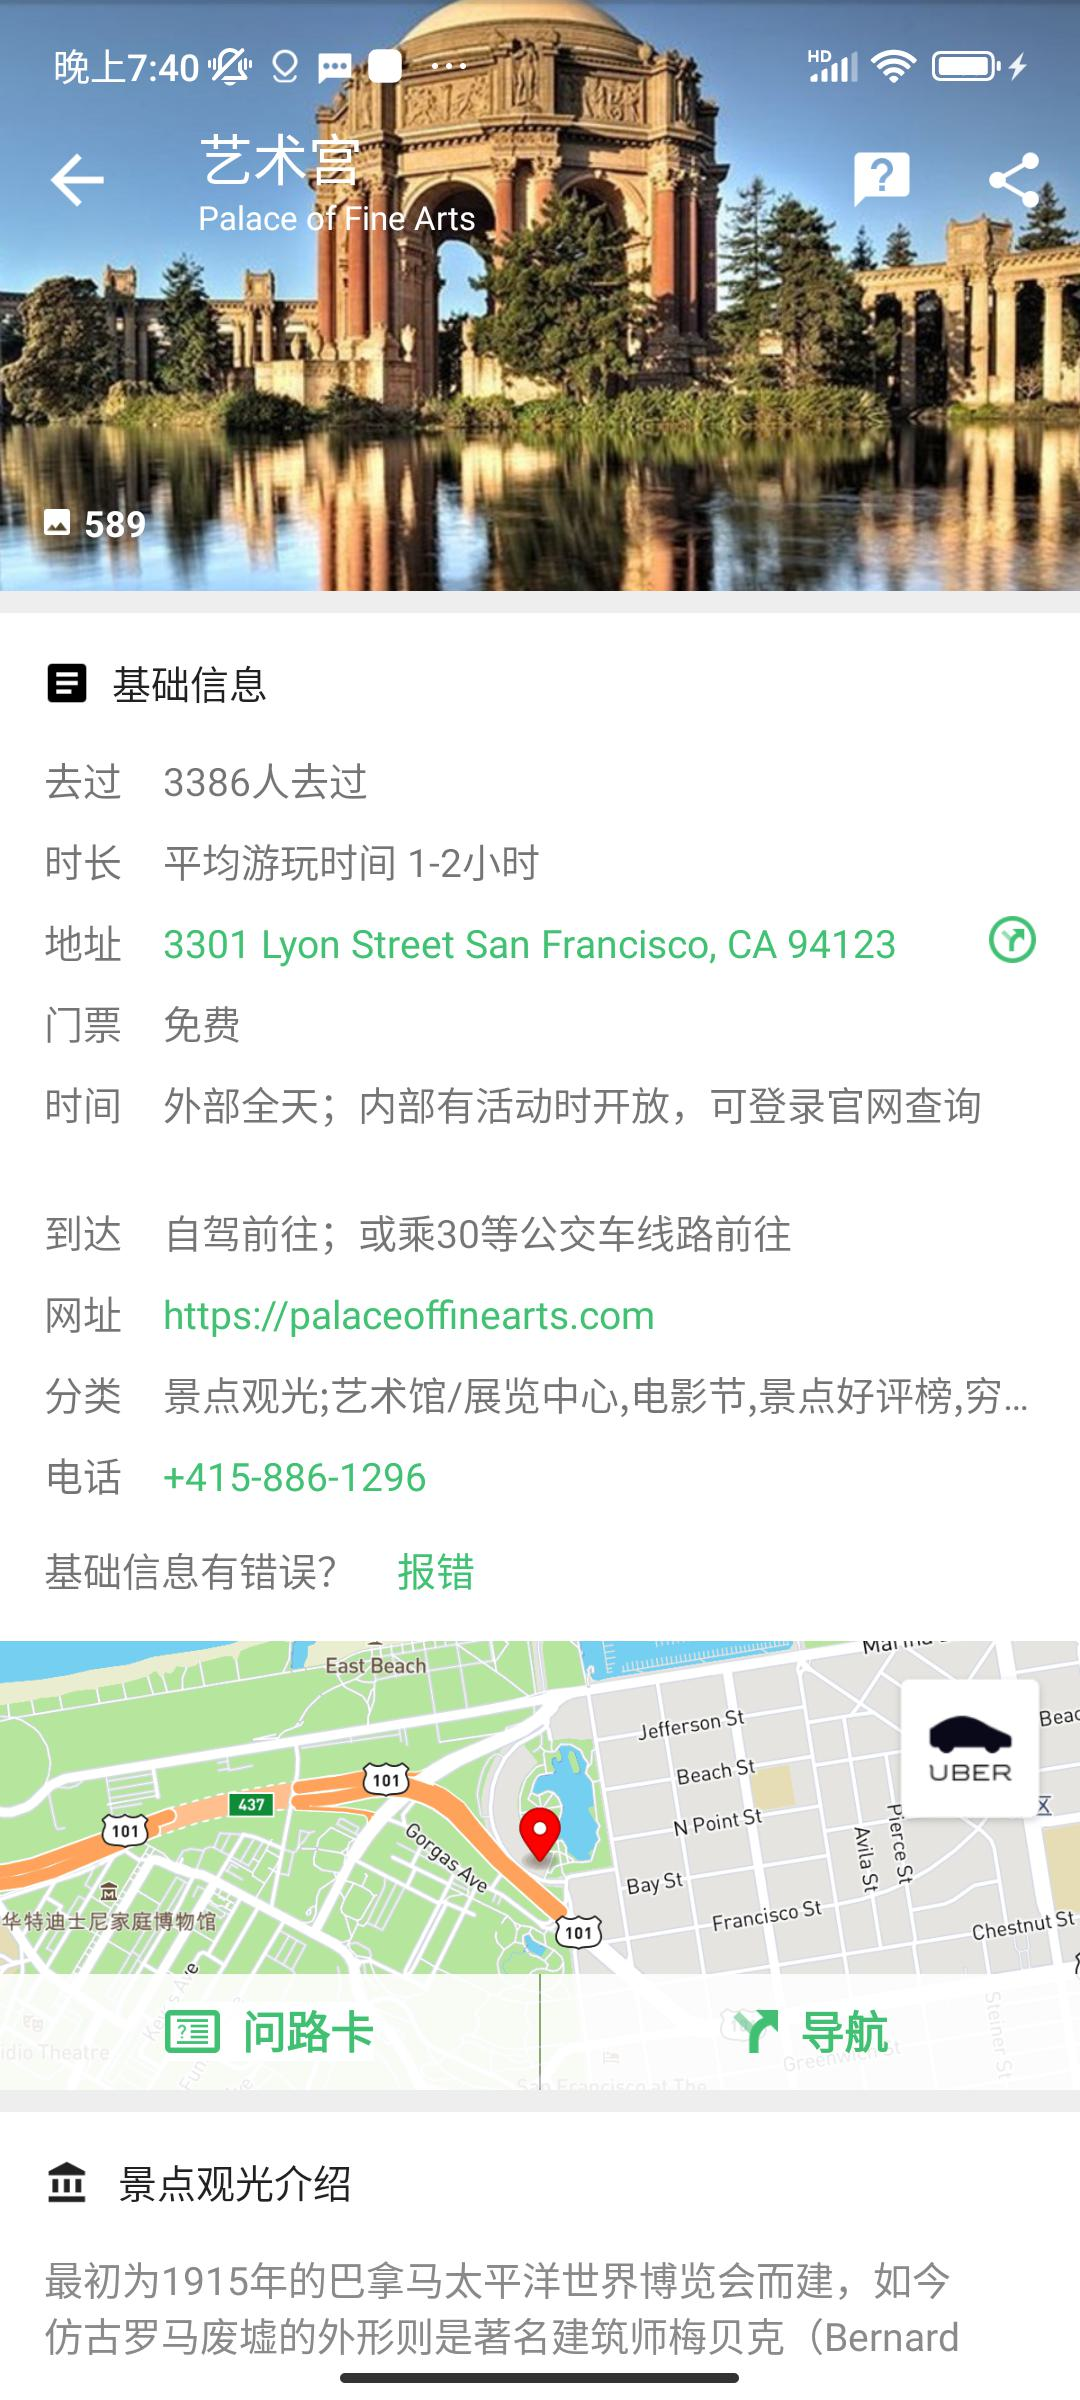ui_group: (5, 1641, 1080, 2082)
